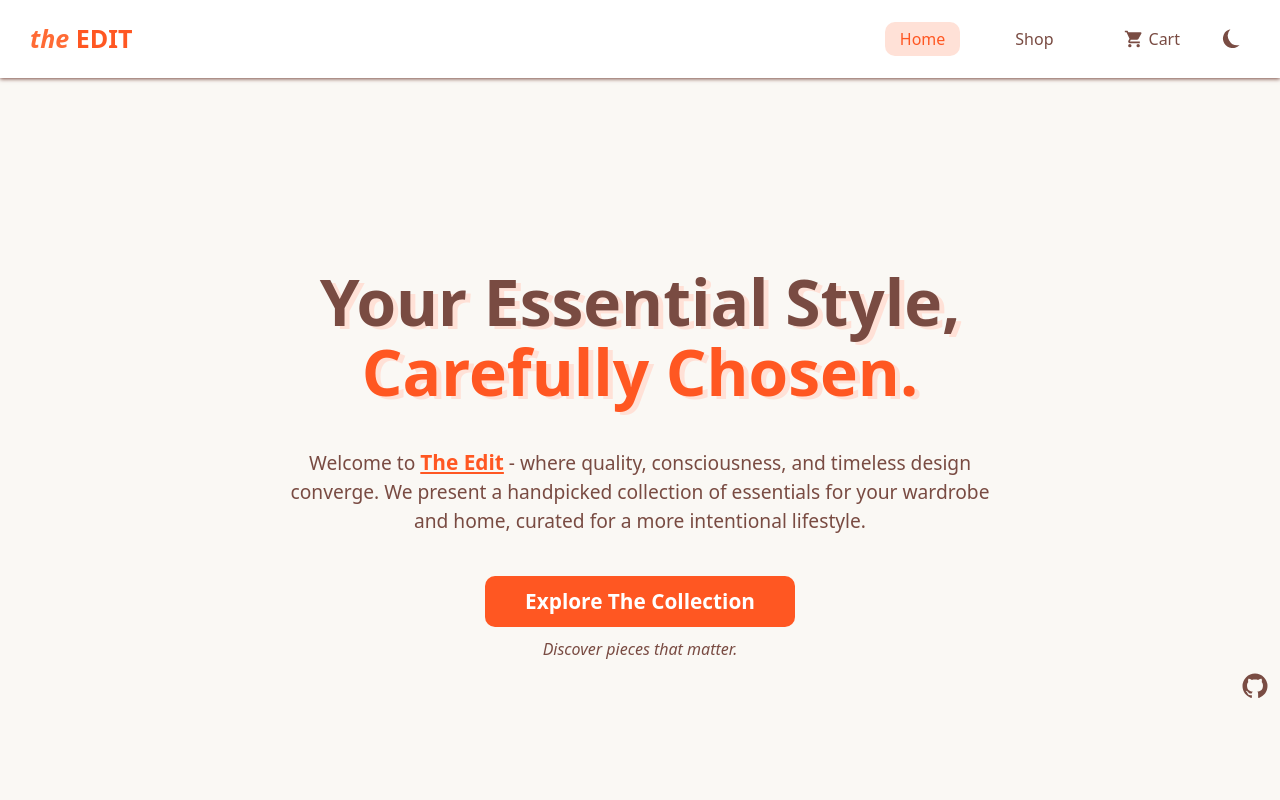
Test: Cart component › Display empty cart initially
This screenshot has width=1280, height=800.
Step 1. Click the link "Cart" → (1152, 39), box [1124, 28, 1180, 50]
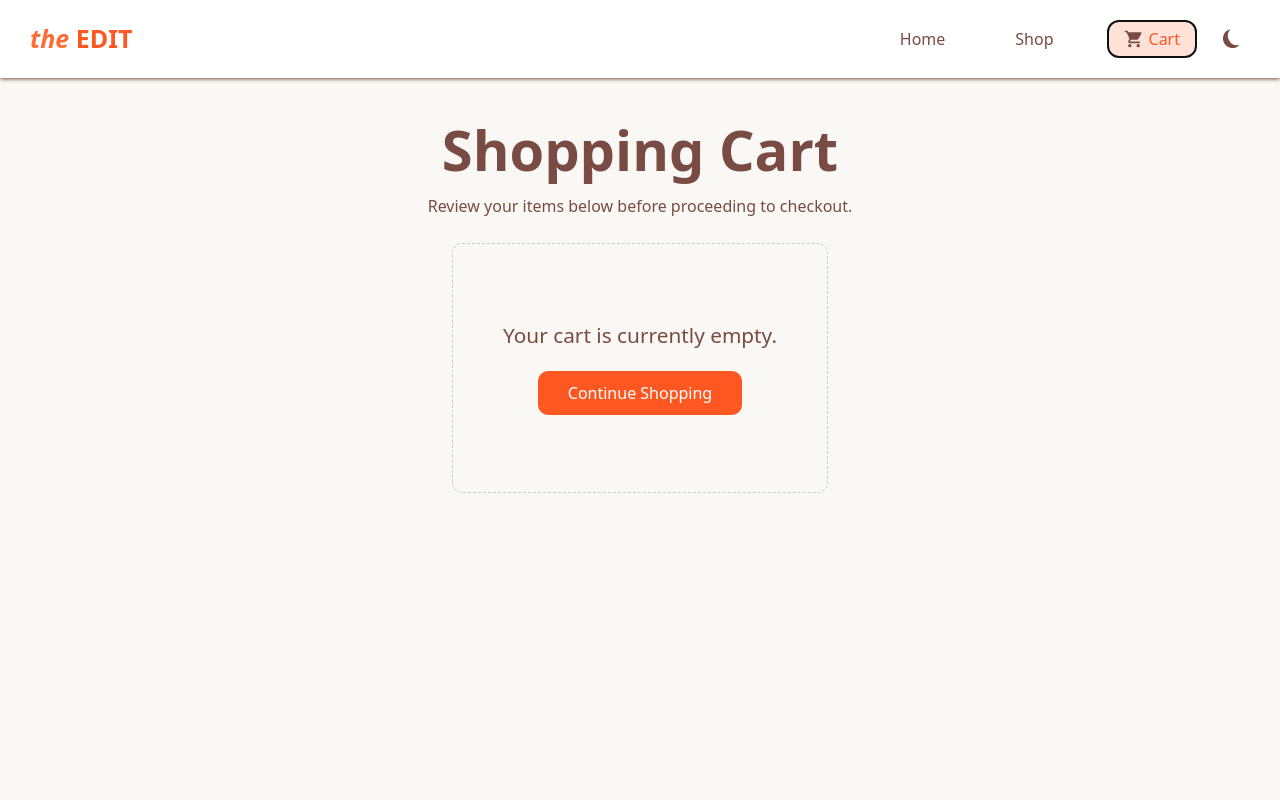
Now the text "Your cart is currently empty." is shown, box [503, 320, 777, 351]
